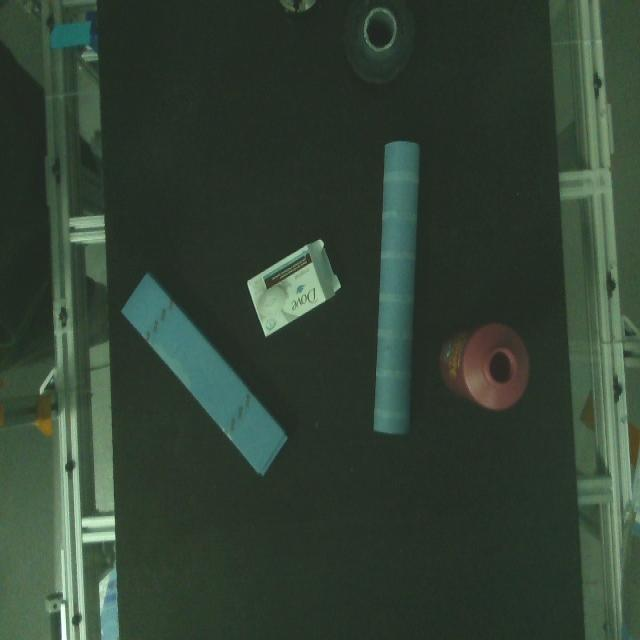non-paper: (436, 324, 539, 418), (338, 0, 418, 91)
paper: (116, 268, 297, 489), (371, 135, 426, 439), (241, 232, 347, 348)
